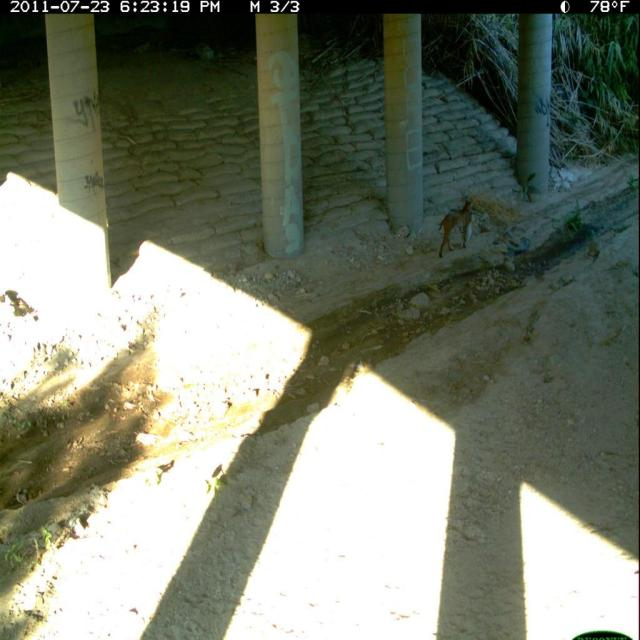bobcat: (436, 193, 478, 264)
rabbit: (462, 206, 480, 249)
